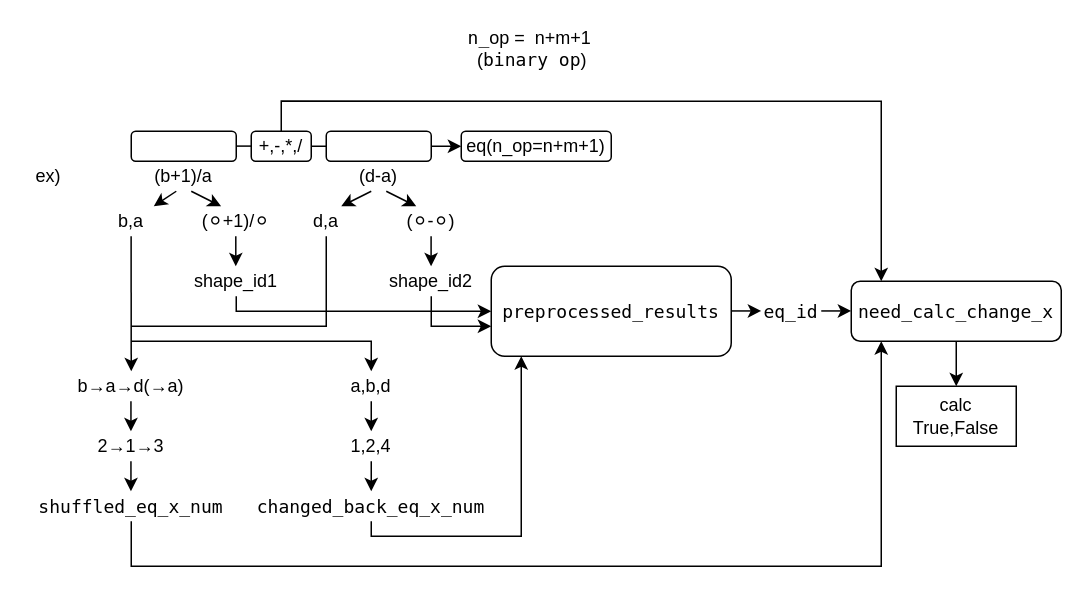
Image size: 1088x605. Some labels were removed from this diagram. The shapes that lost their labels are listed below. From the top down, each one's centre as x and y in pixels, then its label:
At [183,145]: "eq(n_op=n)".
At [378,145]: "eq(n_op=m)".
